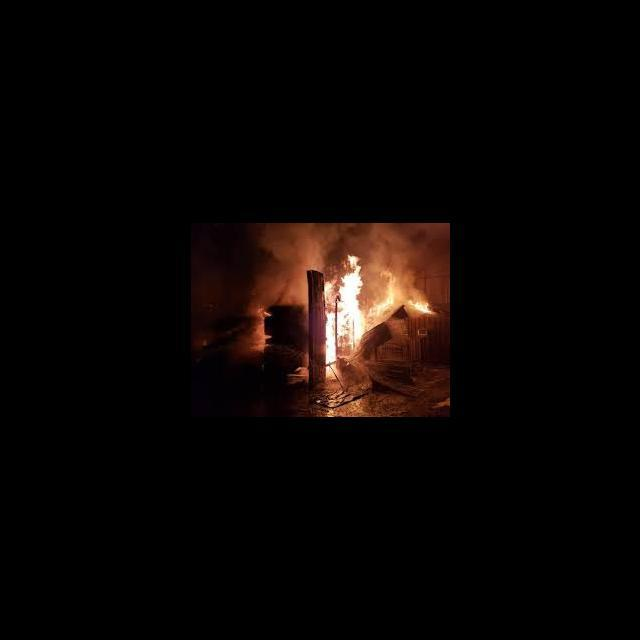Fire: (322, 253, 360, 379), (368, 272, 398, 318), (407, 298, 432, 316)
Smoke: (365, 224, 447, 270), (261, 223, 362, 250), (252, 274, 305, 304), (267, 252, 320, 272)
